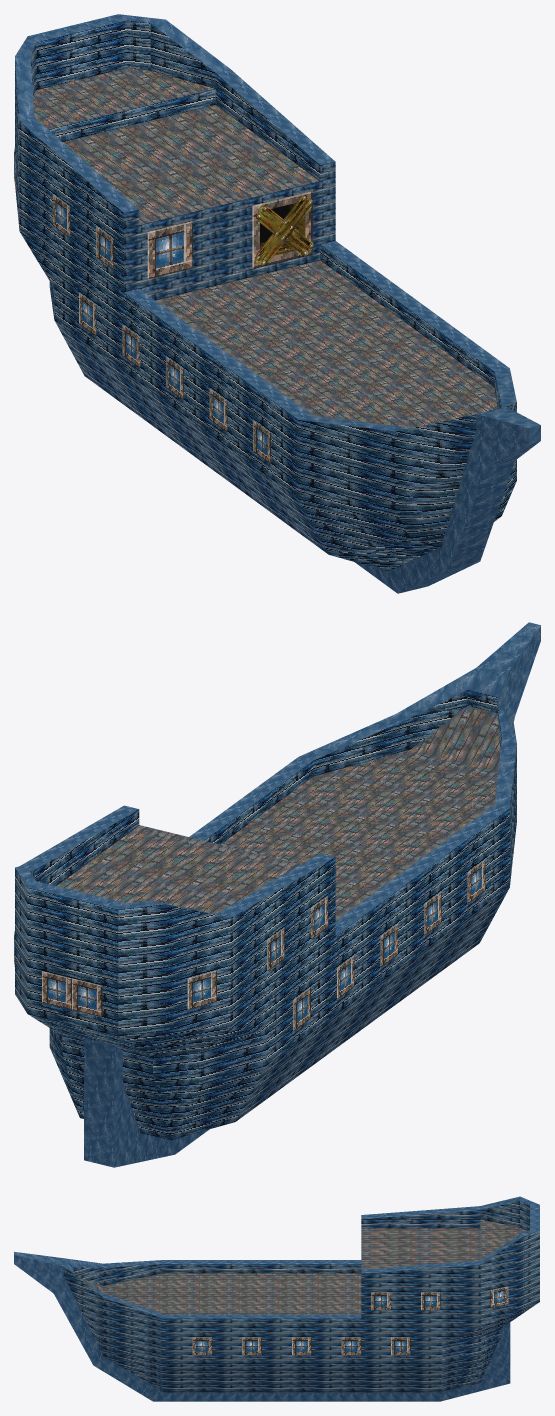
File: ki_fune_up.glb
3 renders of one model, top to bottom at view 1: azimuth 30°, elevation 25°; view 2: azimuth 150°, elevation 25°; view 3: azimuth 270°, elevation 25°, orthographic. The views are drawn at different scales.
Parts seen in each view (by area): view 1: ki_fune_up; view 2: ki_fune_up; view 3: ki_fune_up.
Boxes of the visible parts, box(x1,y1,x2,y2) form: ki_fune_up: box(14, 14, 540, 593); ki_fune_up: box(14, 622, 540, 1167); ki_fune_up: box(14, 1196, 539, 1401).
Bounding box in the file's own units: 178 × 250 × 664.
Materials: 5 (5 with a texture image).
